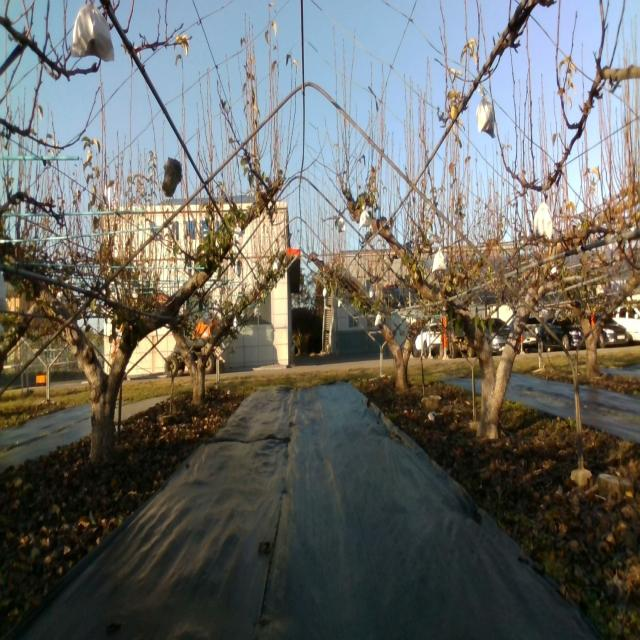pearbags: (70, 0, 114, 62), (476, 85, 496, 139), (534, 202, 554, 242), (432, 246, 446, 271), (358, 206, 371, 229), (233, 223, 244, 246)
